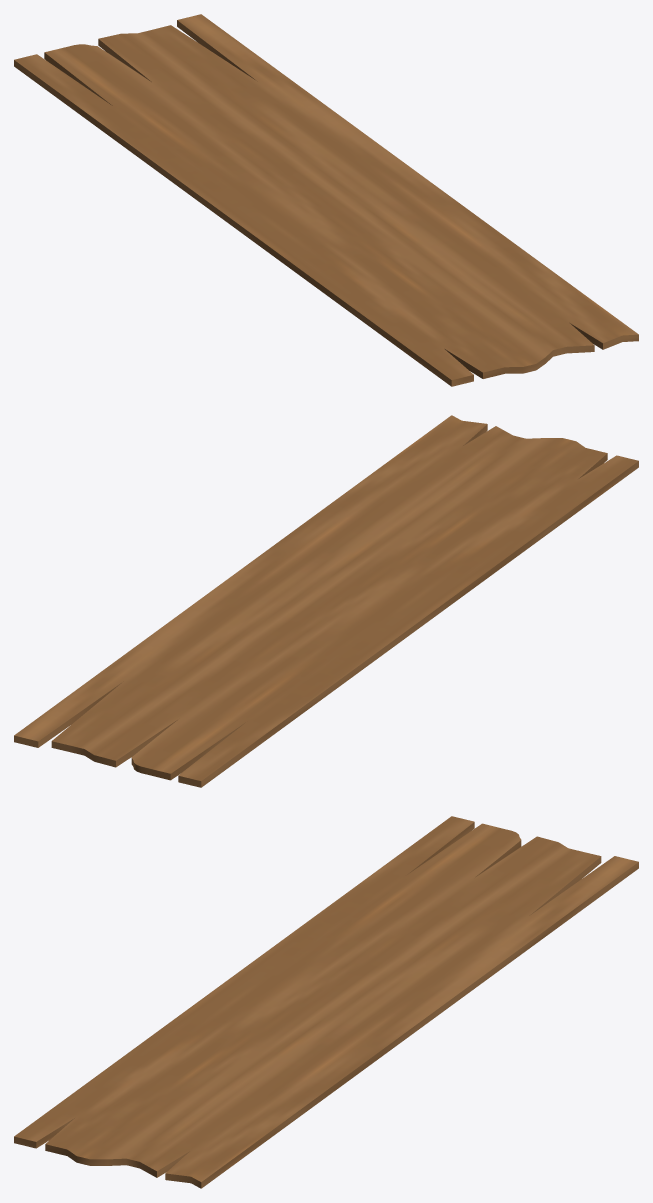
Rendered from Single wooden piece.fbx.
3 renders of one model, top to bottom at view 1: azimuth 30°, elevation 25°; view 2: azimuth 150°, elevation 25°; view 3: azimuth 330°, elevation 25°, orthographic.
Visible parts, largest first — view 1: Full_Track_piece; view 2: Full_Track_piece; view 3: Full_Track_piece.
Boxes of the visible parts, box(x1,y1,x2,y2) form: Full_Track_piece: box(14, 14, 638, 386); Full_Track_piece: box(14, 415, 638, 787); Full_Track_piece: box(14, 816, 638, 1188).
Bounding box in the file's own units: 37.76 × 1.3 × 155.
1 material, 1 textured.
